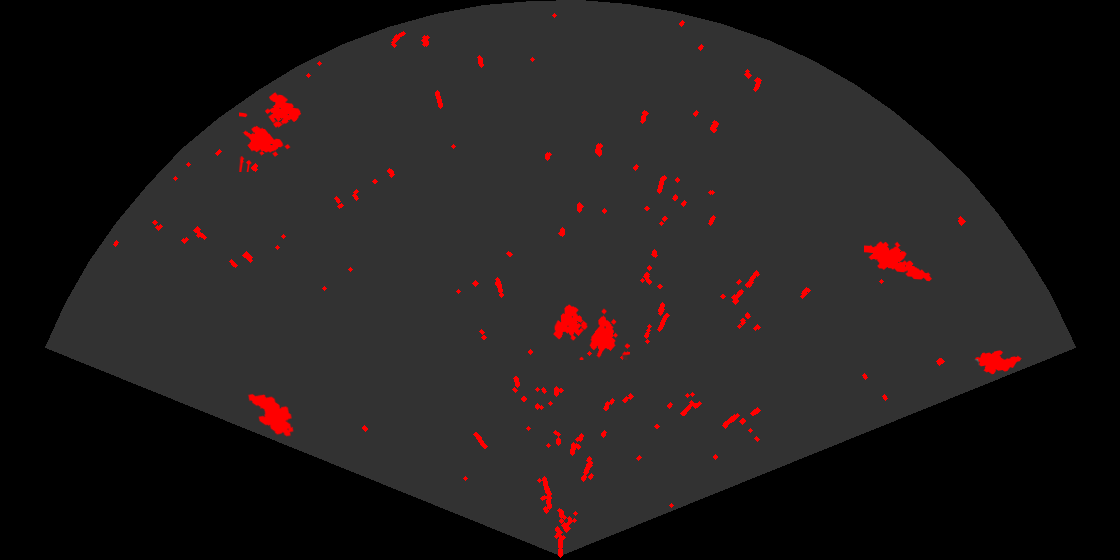AUV: (246, 392, 295, 438), (973, 349, 1023, 376)
cage: (239, 91, 303, 172), (552, 303, 630, 360)
frogman: (864, 240, 934, 283)
